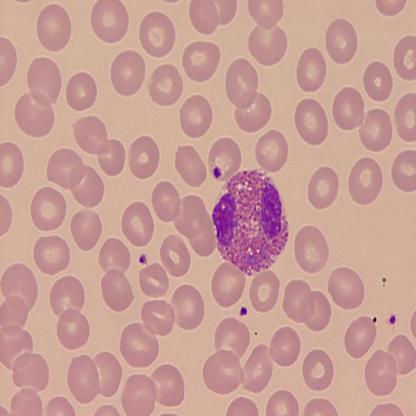Eosinophil: (212, 170, 291, 275)
